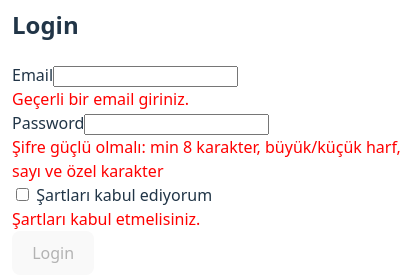
Test: Login Form E2E › Hatalı durumlar
Type "wrongemail" into the field named "email" at (146, 77), box [53,66,238,87]
Type "StrongPass1!" into the password field named "password" at (177, 125), box [84,114,269,135]
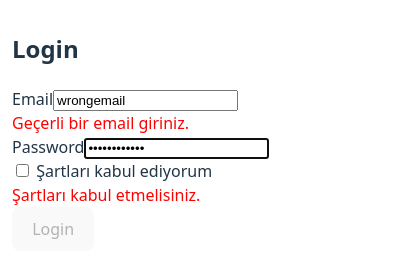
Check the checkbox named "terms" at (23, 171), box [16,164,29,177]
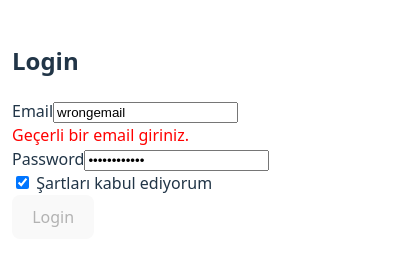
Expected: the submit button is disabled, [12,195,94,238]
Expected: the text "Geçerli bir email giriniz." is shown, [12,124,189,146]
Replace the text in the field named "email" with "wrong@email" at (146, 113), box [53,102,238,123]
Type "weak" into the password field named "password" at (177, 161), box [84,150,269,171]
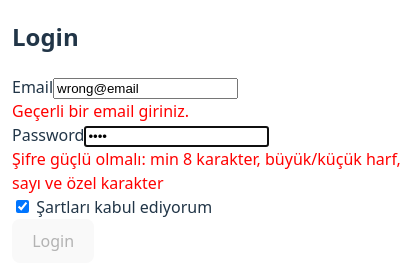
Expected: the submit button is disabled, [12,219,94,262]
Expected: the text "Şifre güçlü olmalı" is shown, [12,148,401,194]
Replace the text in the field named "email" with "test@example.com" at (146, 89), box [53,78,238,99]
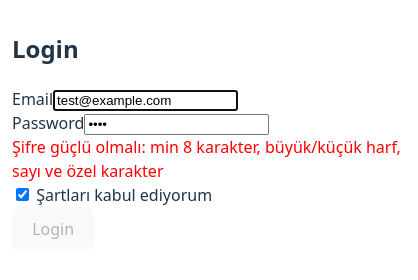
Type "StrongPass1!" into the password field named "password" at (177, 125), box [84,114,269,135]
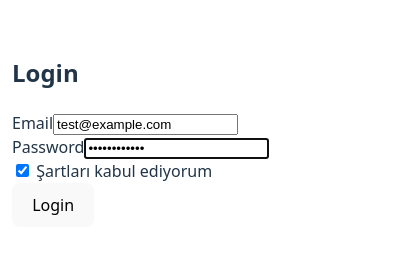
Uncheck the checkbox named "terms" at (23, 171), box [16,164,29,177]
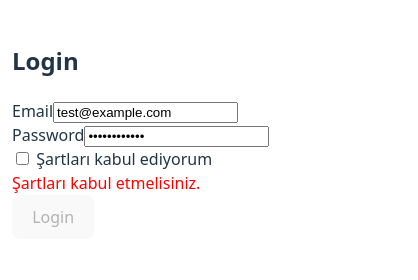
Expected: the submit button is disabled, [12,195,94,238]
Expected: the text "Şartları kabul etmelisiniz." is shown, [12,172,200,194]
